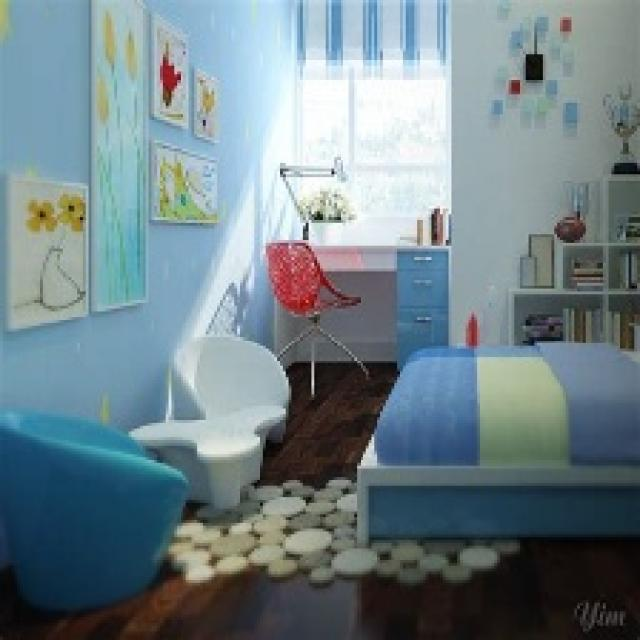Bed: (354, 340, 637, 546)
